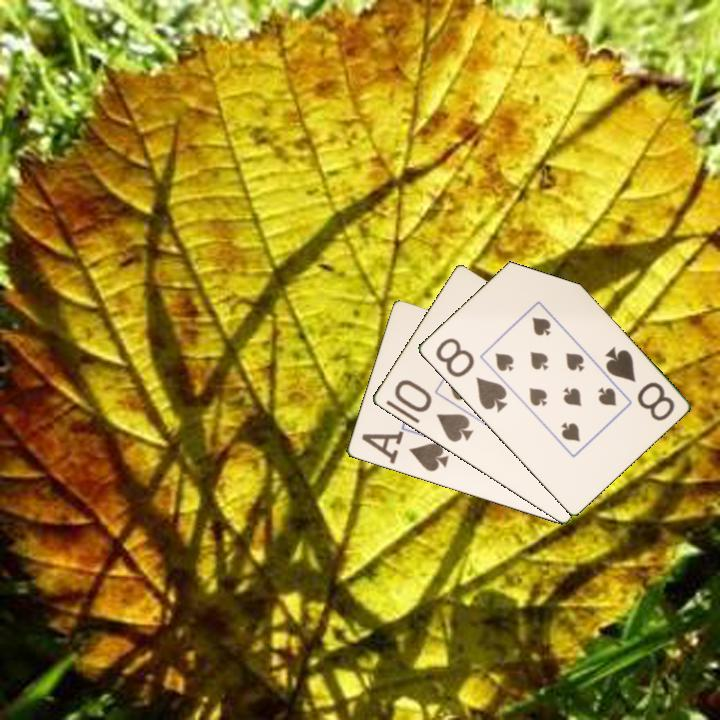10s: (390, 376, 476, 445)
8s: (431, 334, 510, 415), (601, 343, 677, 424)
As: (366, 435, 451, 475)
